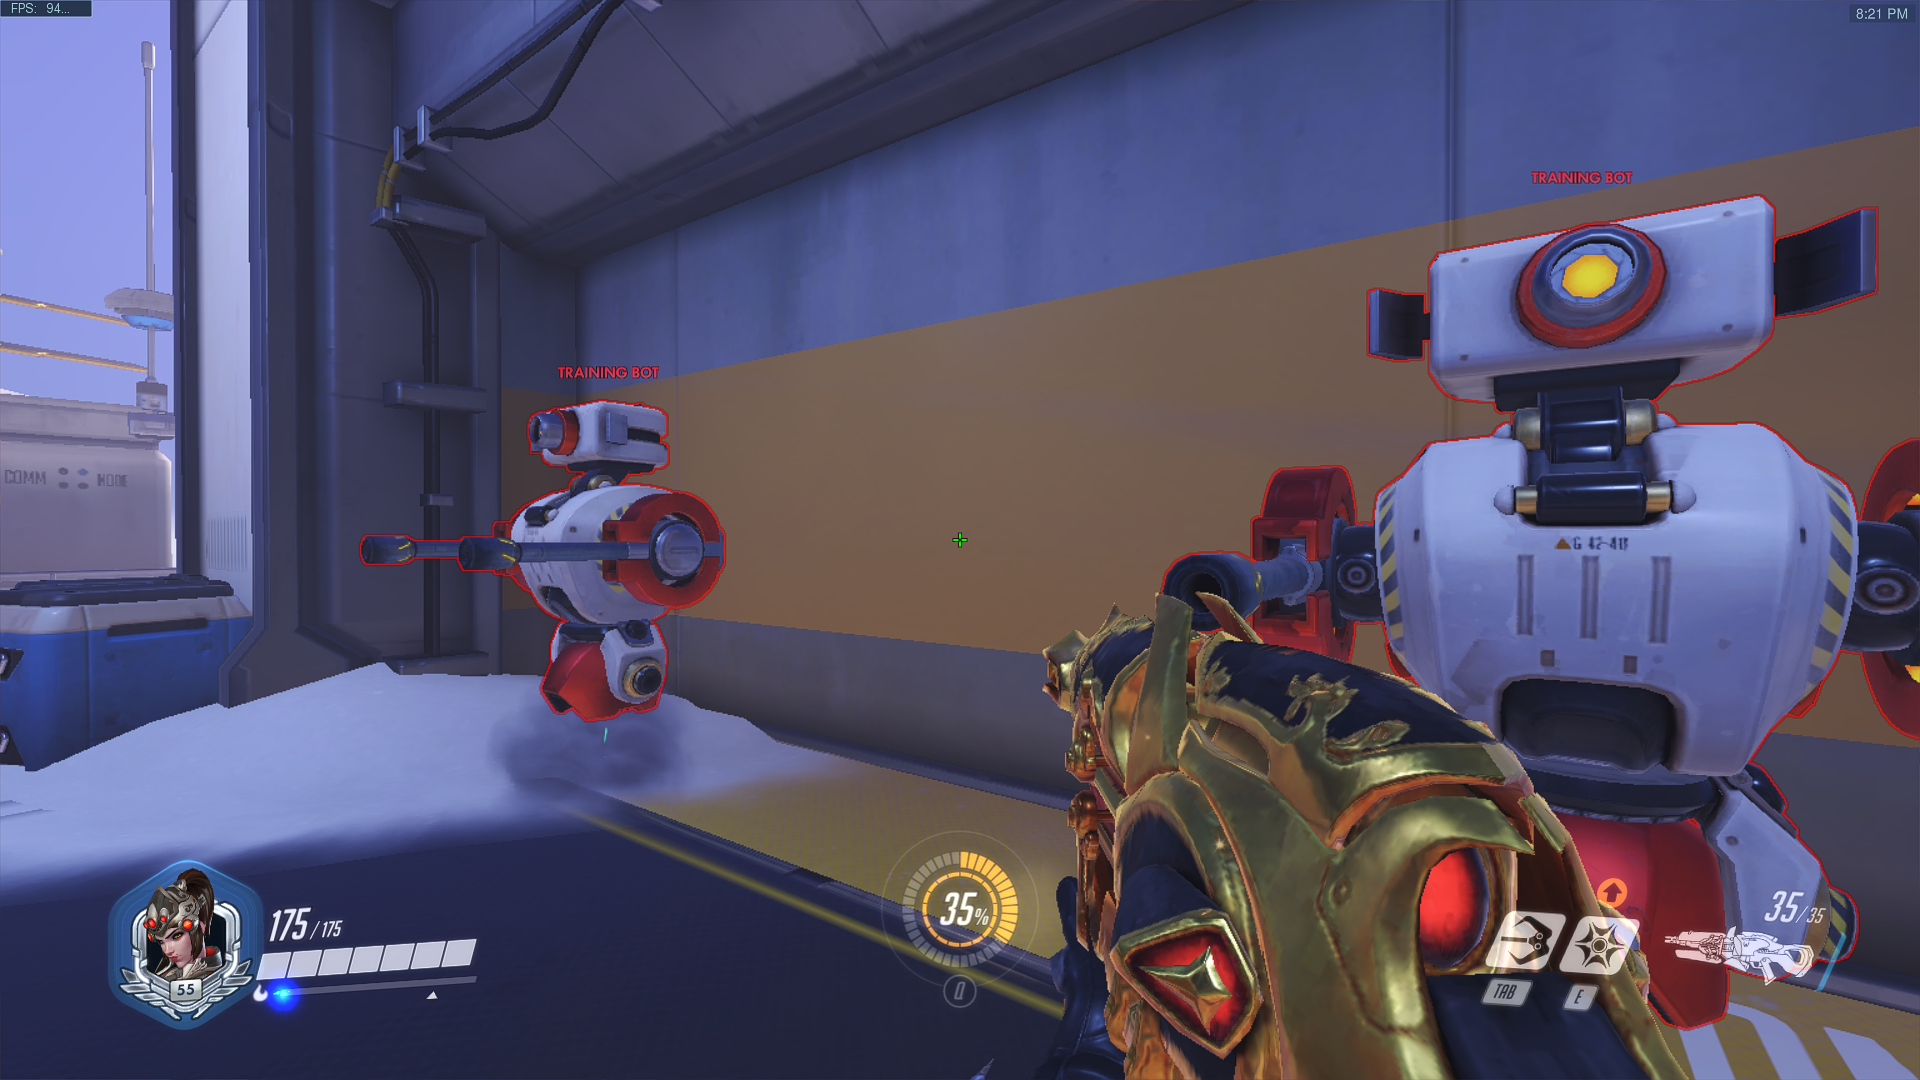head: (1431, 202, 1759, 401), (523, 411, 667, 467)
